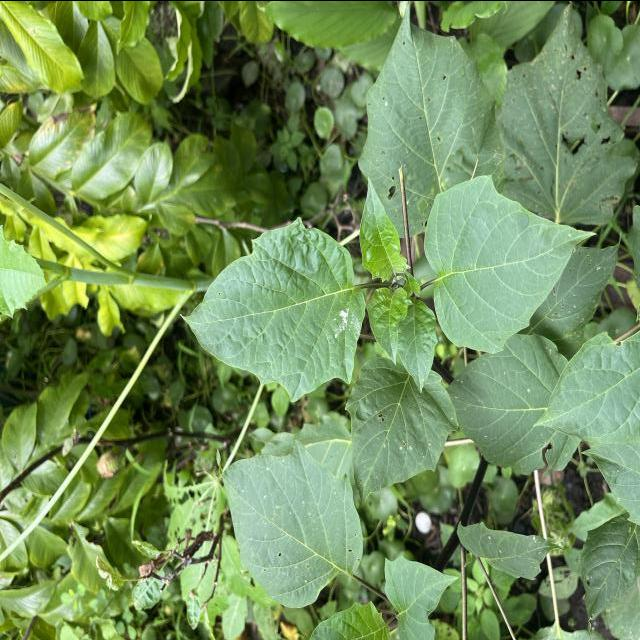Datura metal linn: (176, 213, 369, 404), (420, 172, 600, 356), (212, 436, 366, 610), (341, 350, 462, 510)
